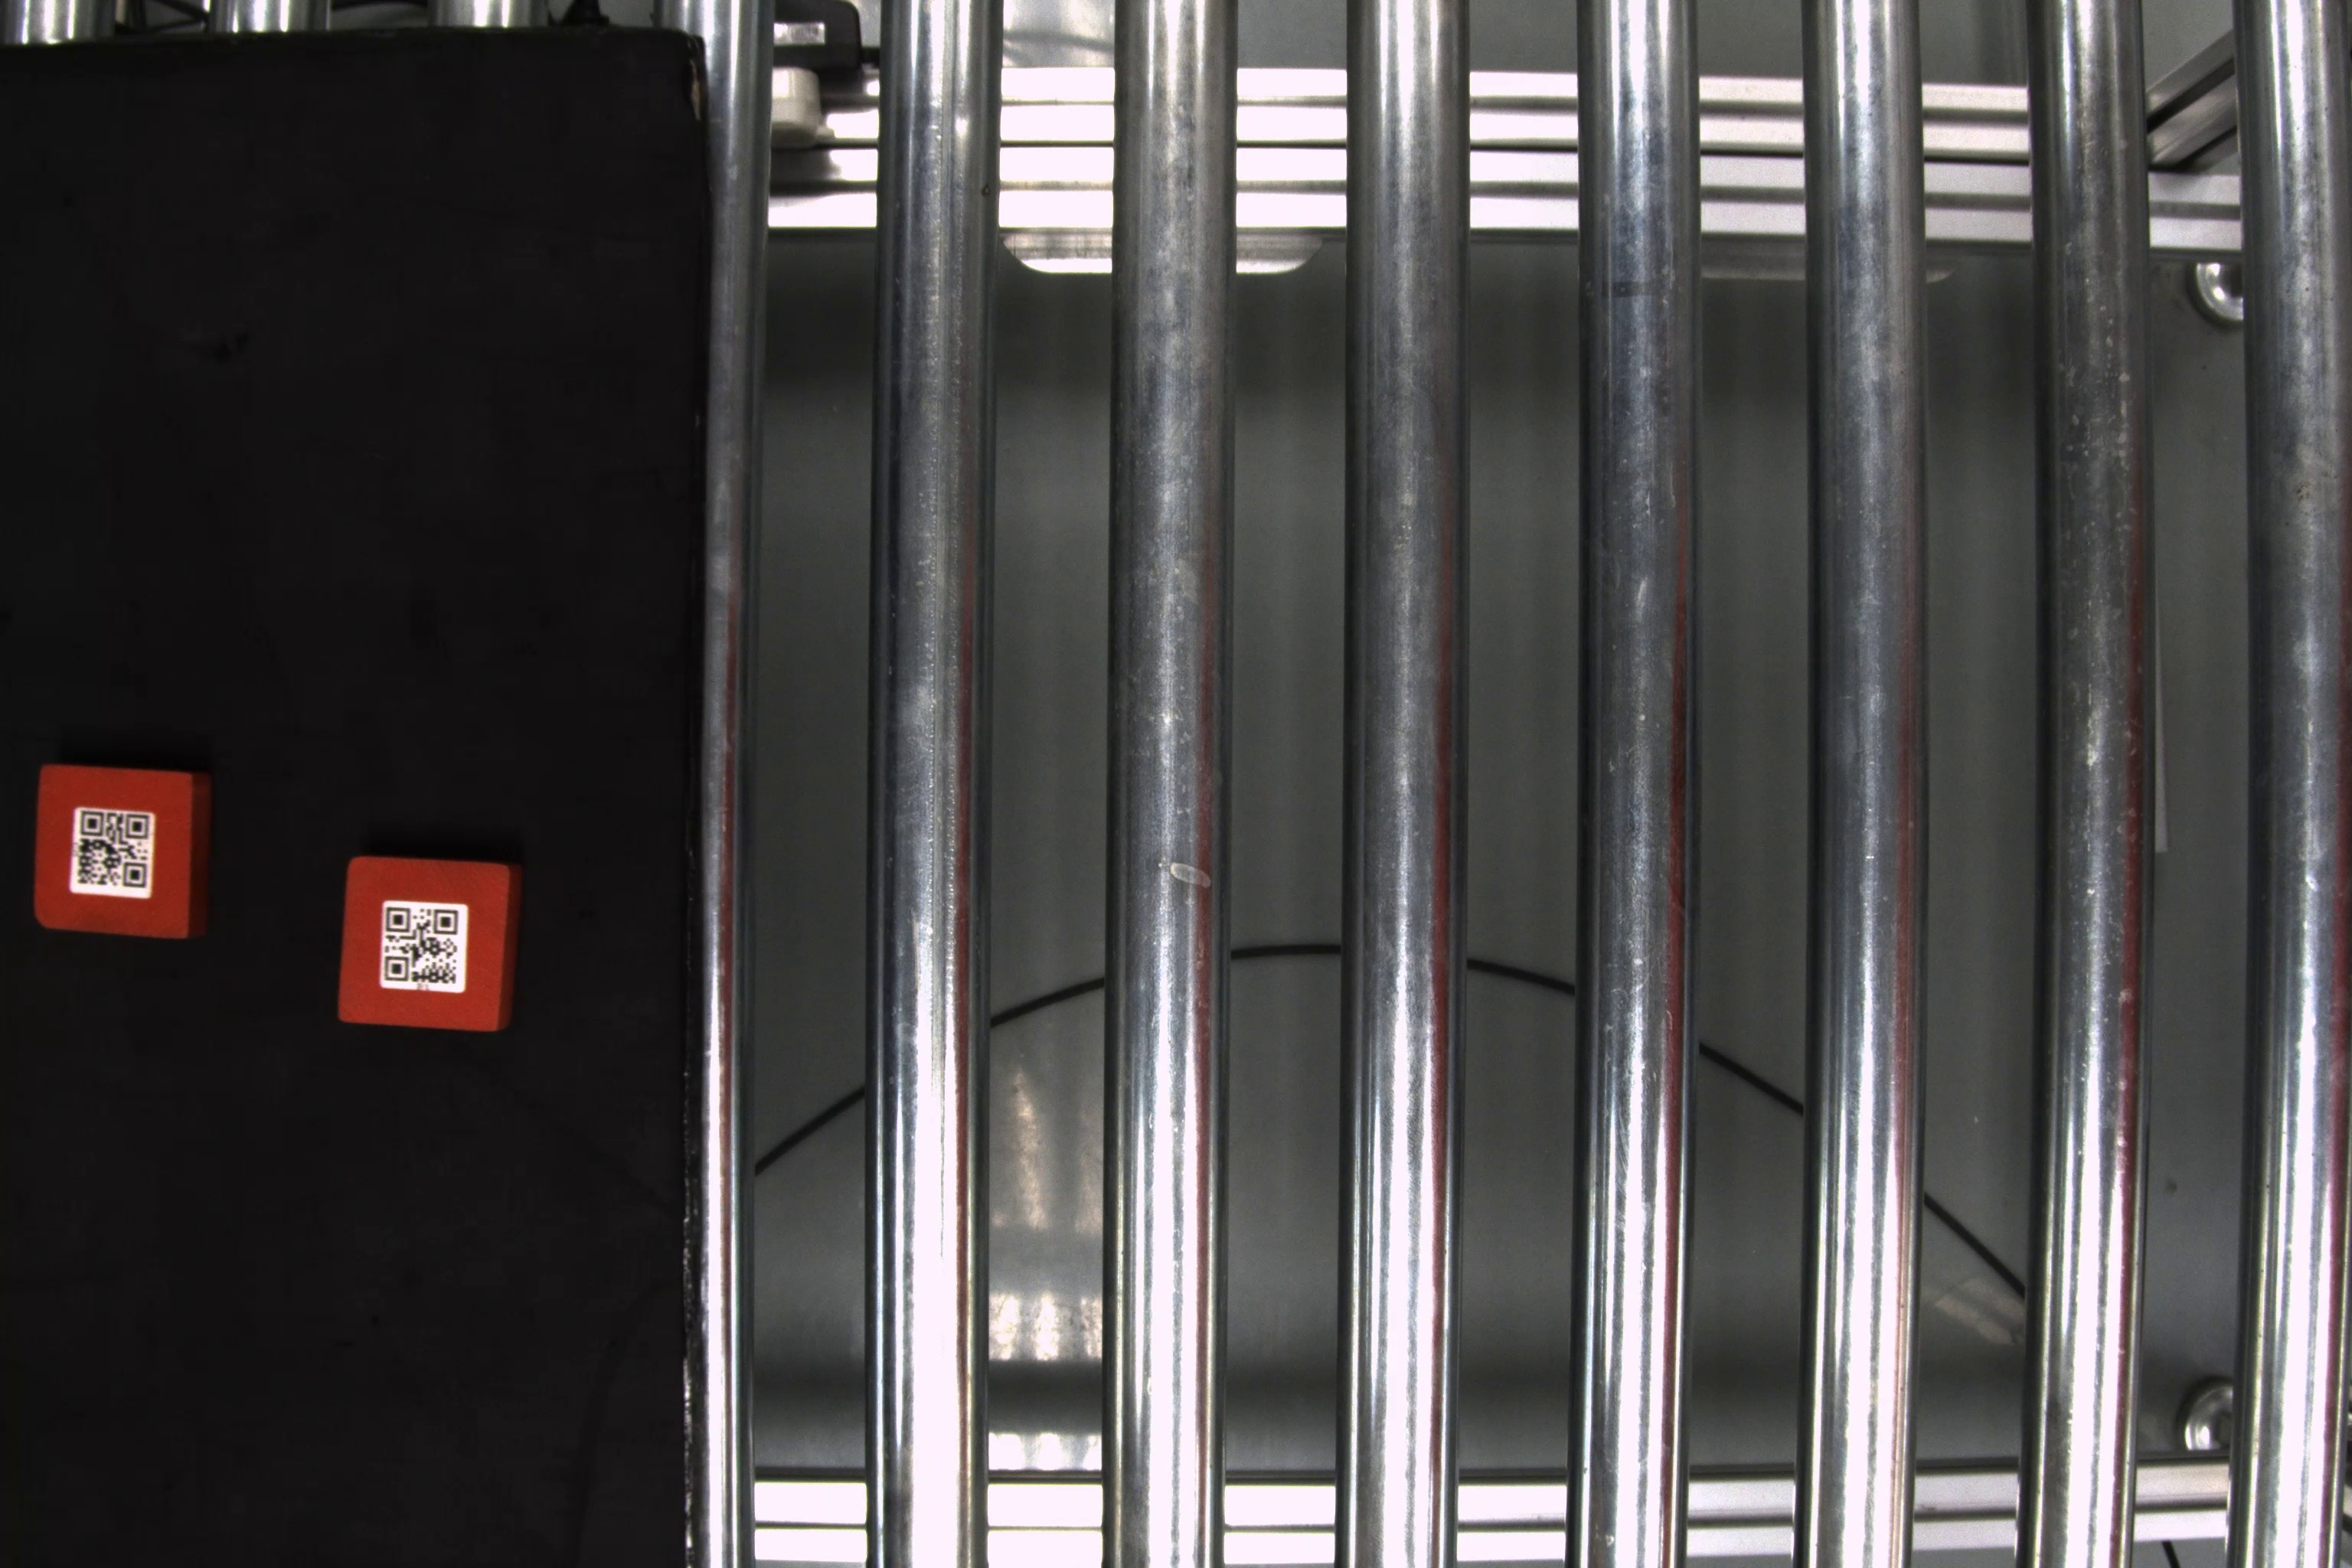wood: (336, 852, 532, 1039), (28, 759, 220, 945)
